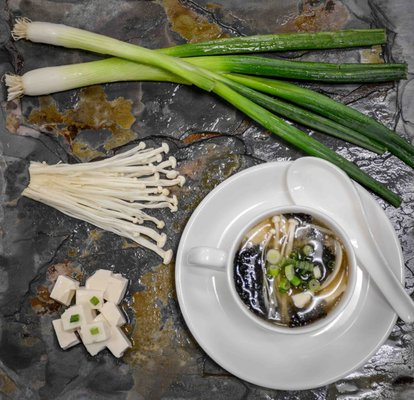sushi: (173, 158, 407, 391)
